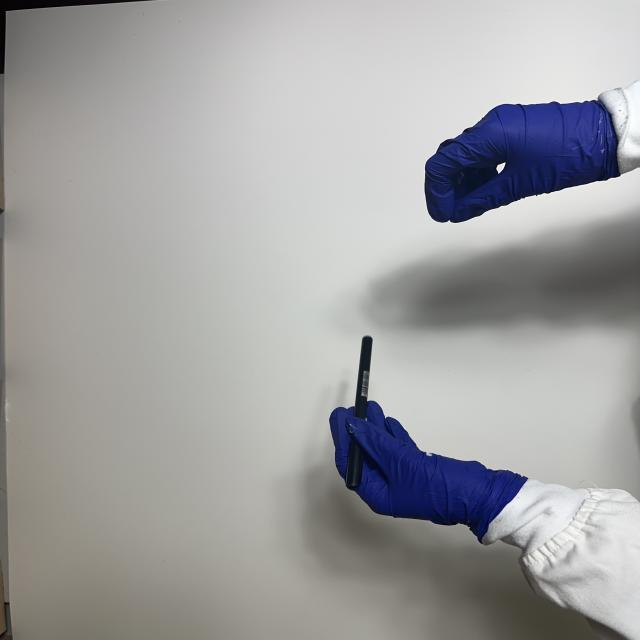gloves_contaminated: (330, 402, 526, 540), (425, 101, 620, 222)
